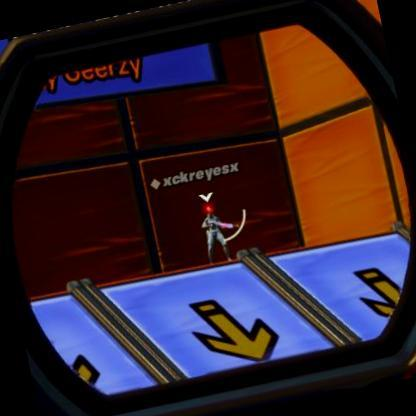person: (200, 199, 230, 255)
